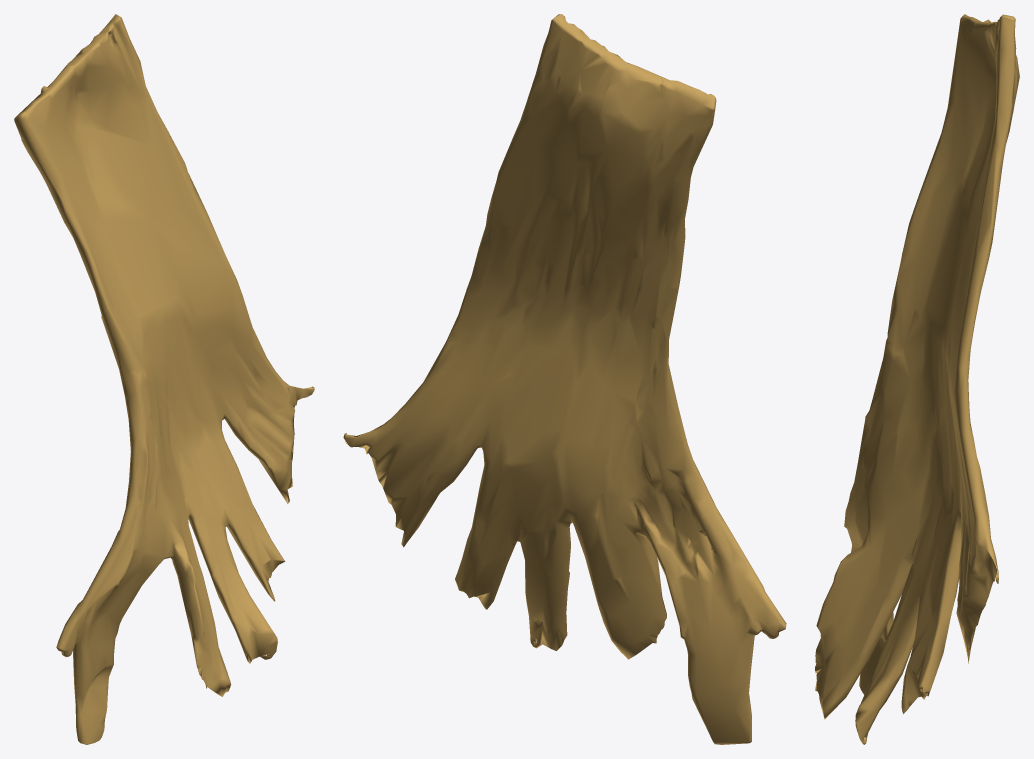
3 views of the same model, side by side, from view 1: azimuth 30°, elevation 25°; view 2: azimuth 150°, elevation 25°; view 3: azimuth 270°, elevation 25° (orthographic). The views are drawn at different scales.
Visible parts, largest first — view 1: 左侧足底长韧带; view 2: 左侧足底长韧带; view 3: 左侧足底长韧带.
Part boxes in pixels (x1,y1,x2,y2): 左侧足底长韧带: (14,14,314,744); 左侧足底长韧带: (343,14,786,744); 左侧足底长韧带: (815,14,1019,744).
Bounding box in the file's own units: 0.0749 × 0.1471 × 0.0374.
